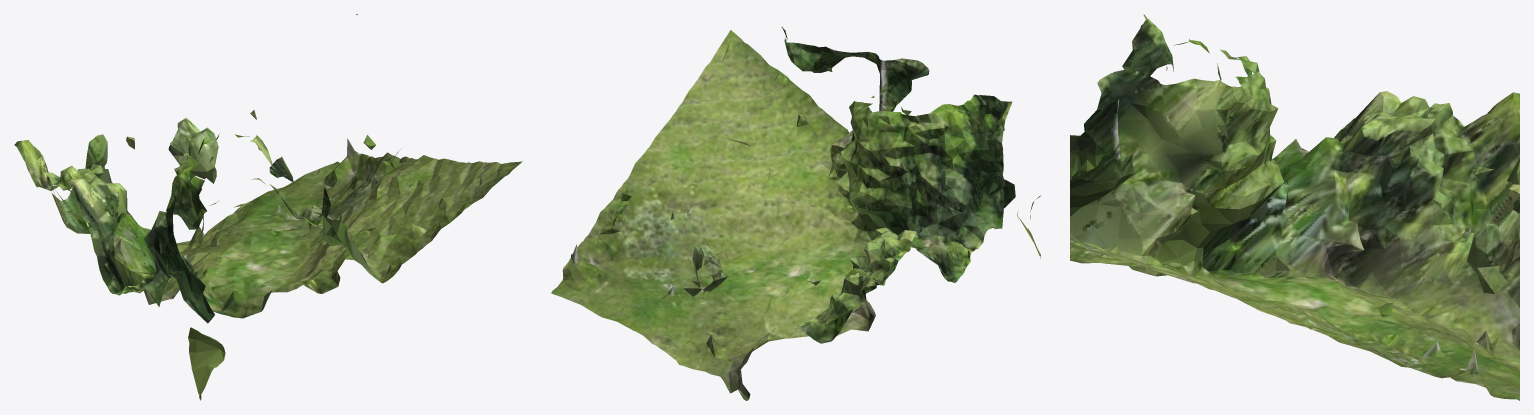
3 renders of one model, left to right at view 1: azimuth 30°, elevation 25°; view 2: azimuth 150°, elevation 25°; view 3: azimuth 270°, elevation 25°, orthographic. The views are drawn at different scales.
Bounding box in the file's own units: 26.11 × 17.45 × 26.11.
4 materials, 4 textured.
